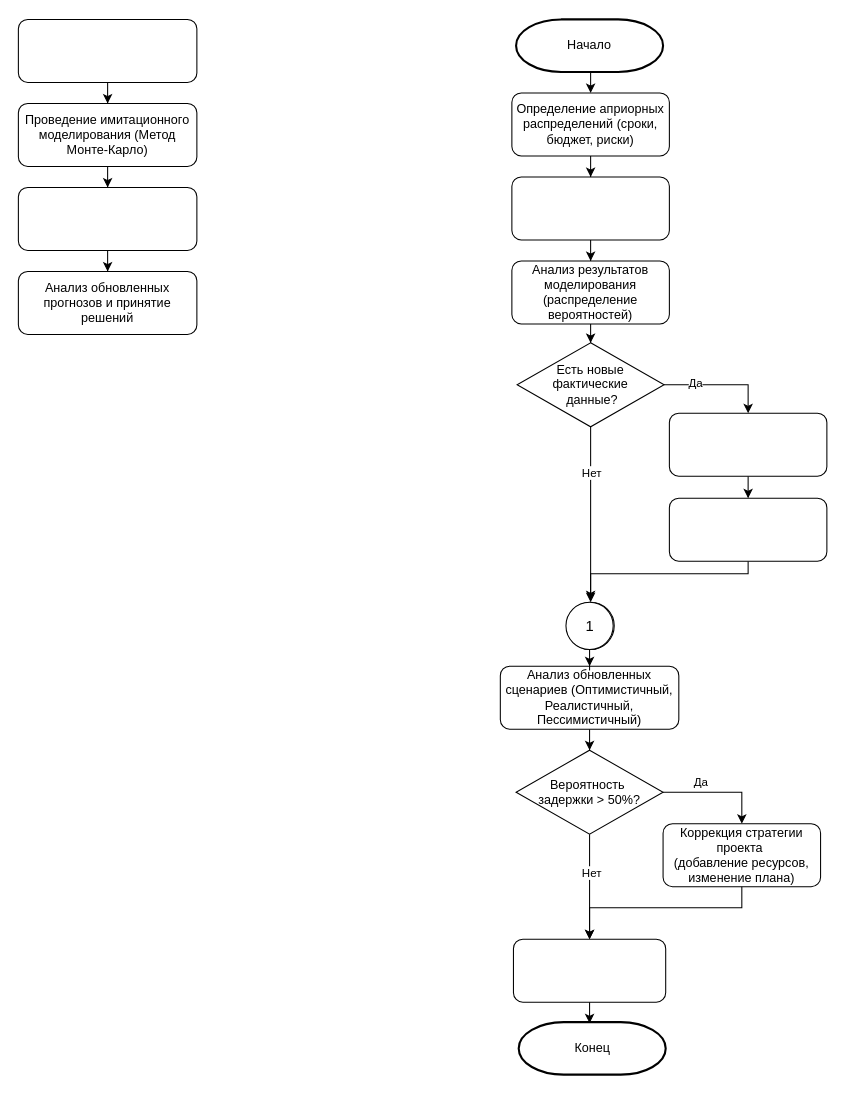
The diagram is 845 pixels wide and 1093 high, and some of its shapes have lost their labels. The centre of each missing label's shape, as x and y in pixels:
Байесовское обновление распределений (коррекция вероятностей): point (747, 444)
Имитационное моделирование (Монте-Карло): point (590, 208)
Обновление вероятностей на основе фактических данных (Байесовский пересчет): point (107, 218)
Определение априорных распределений: point (107, 50)
Оставить план без изменений: point (589, 970)
Перезапуск Монте-Карло с новыми данными: point (747, 529)
